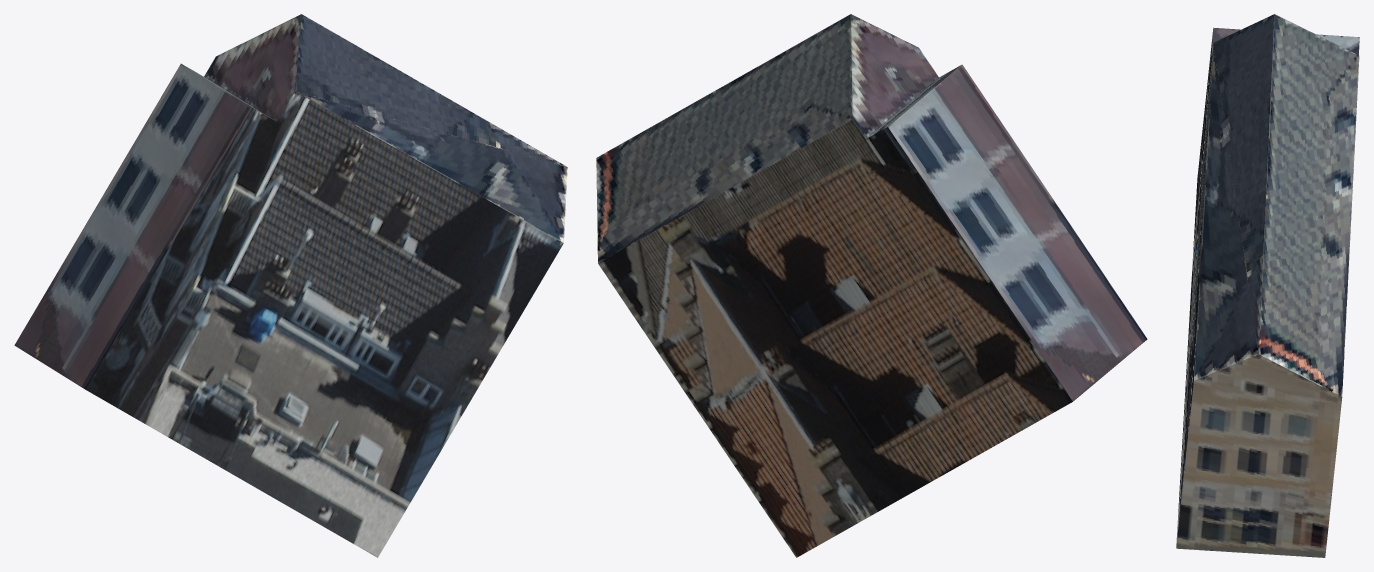
3 views of the same model, side by side, from view 1: azimuth 30°, elevation 25°; view 2: azimuth 150°, elevation 25°; view 3: azimuth 270°, elevation 25° (orthographic).
Visible parts, largest first — view 1: BAG_0599100000671632 (×3); view 2: BAG_0599100000671632 (×2); view 3: BAG_0599100000671632 (×2).
Part boxes in pixels (x1,y1,x2,y2): BAG_0599100000671632 (×3): (14, 14, 567, 557); BAG_0599100000671632 (×2): (596, 14, 1147, 557); BAG_0599100000671632 (×2): (1176, 14, 1359, 557).
Size of the model in its own units: 22.95 by 22.43 by 7.04.
3 materials, 3 textured.
